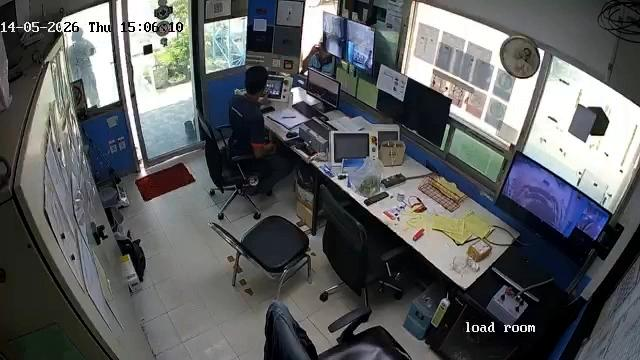Head: (241, 64, 269, 94)
People: (222, 63, 295, 197)
Phone: (261, 106, 276, 114)
